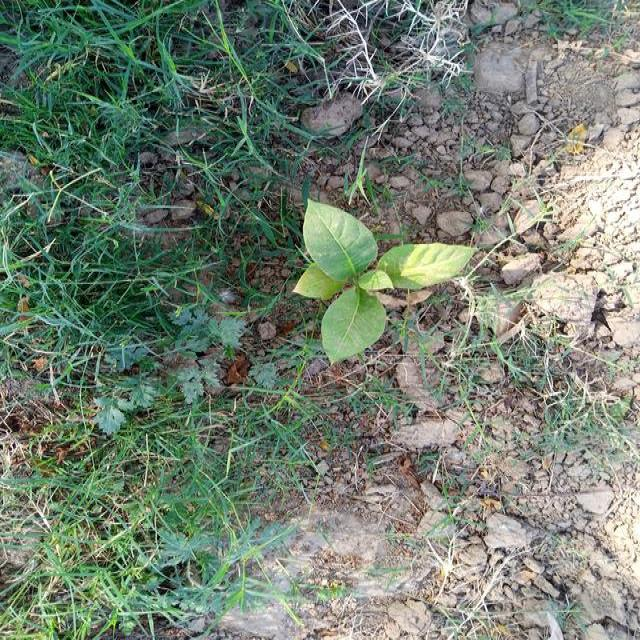crop: (298, 200, 472, 350)
